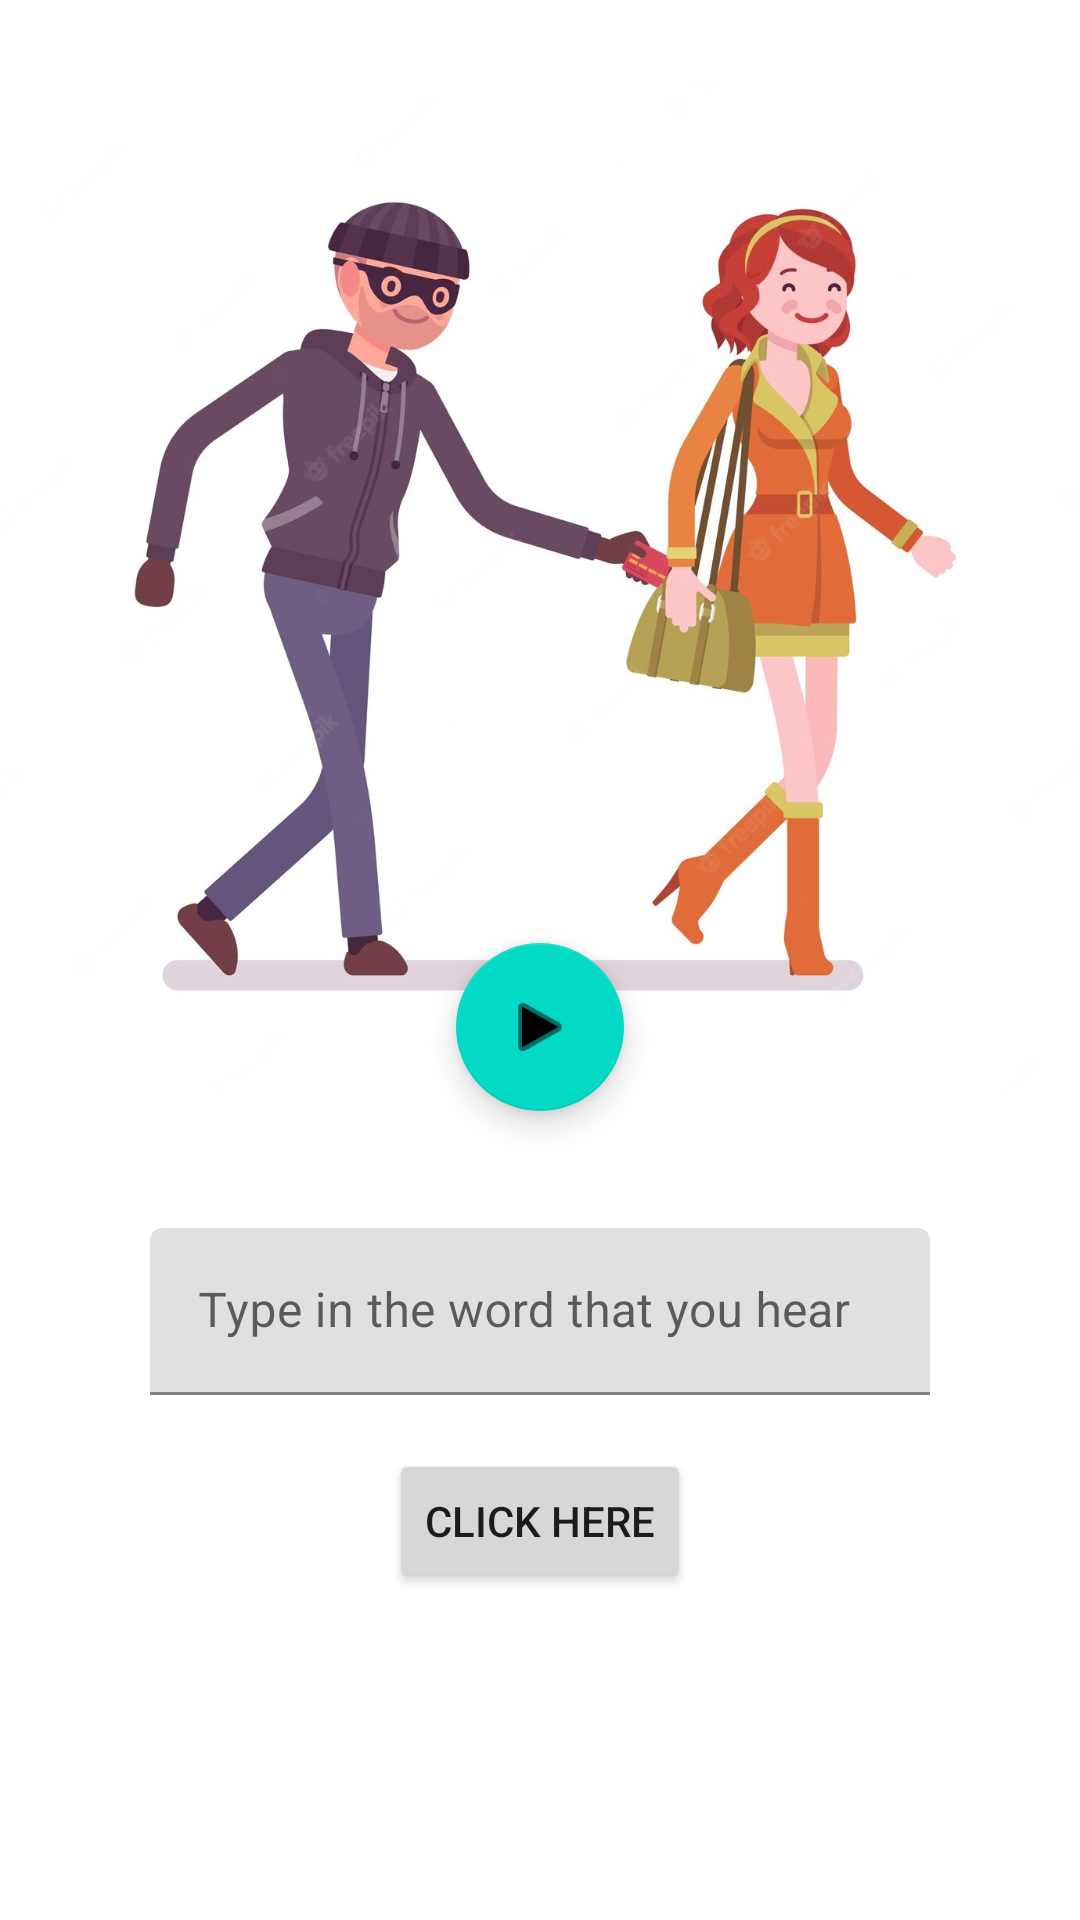

Locate icon controls on the screen. Image size 1080 × 1920, boxes as [x1=x1, y1=y1, x2=x2, y2=y2].
play: [x1=456, y1=943, x2=624, y2=1111]
